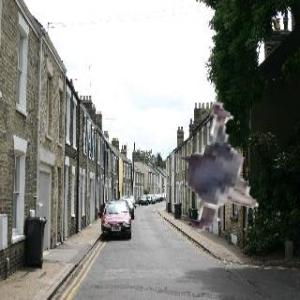drone: (129, 95, 292, 258)
